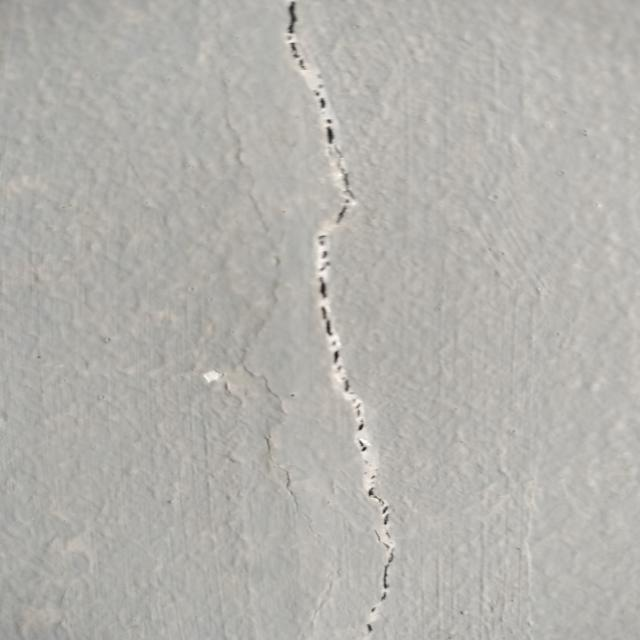Crack: (280, 3, 405, 640)
